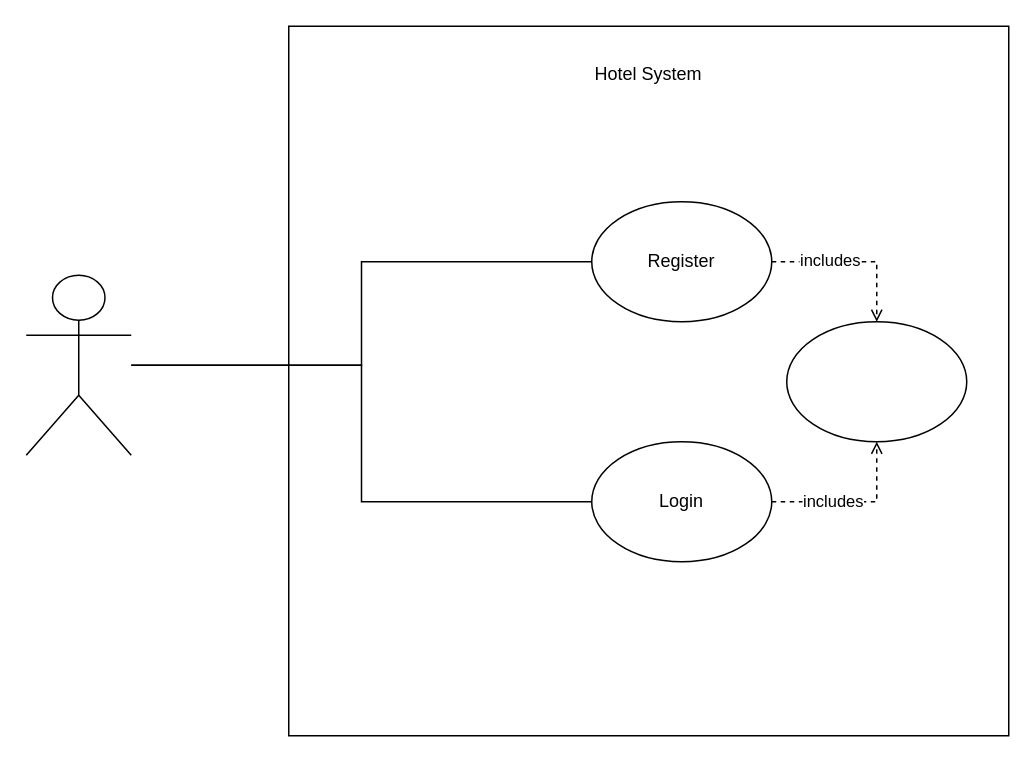
The diagram is 1035 pixels wide and 762 high, and some of its shapes have lost their labels. The centre of each missing label's shape, as x and y in pixels:
"Authentication" belongs at pixel 876 381.
"Customer" belongs at pixel 78 364.
